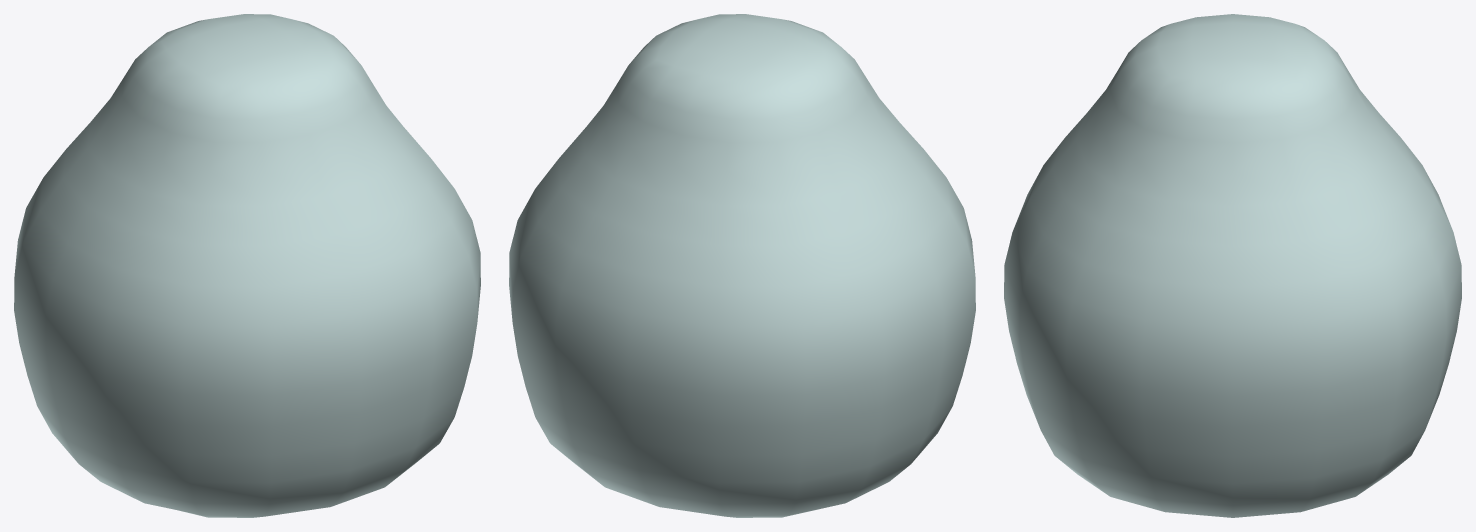
File: Small semi-Bipedal.fbx
3 renders of one model, left to right at view 1: azimuth 30°, elevation 25°; view 2: azimuth 150°, elevation 25°; view 3: azimuth 270°, elevation 25°, orthographic.
Visible parts, largest first — view 1: Cube.001; view 2: Cube.001; view 3: Cube.001.
Part boxes in pixels (x1,y1,x2,y2): Cube.001: [14, 14, 480, 517]; Cube.001: [509, 14, 975, 517]; Cube.001: [1004, 14, 1461, 517].
Size of the model in its own units: 307 by 319 by 301.
